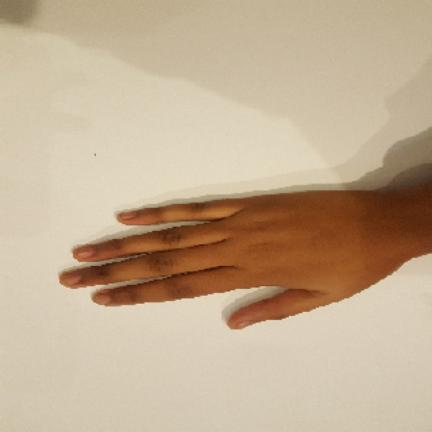Nail: (63, 274, 81, 285), (235, 321, 254, 330), (76, 248, 93, 258), (94, 294, 110, 304), (121, 212, 136, 220)
